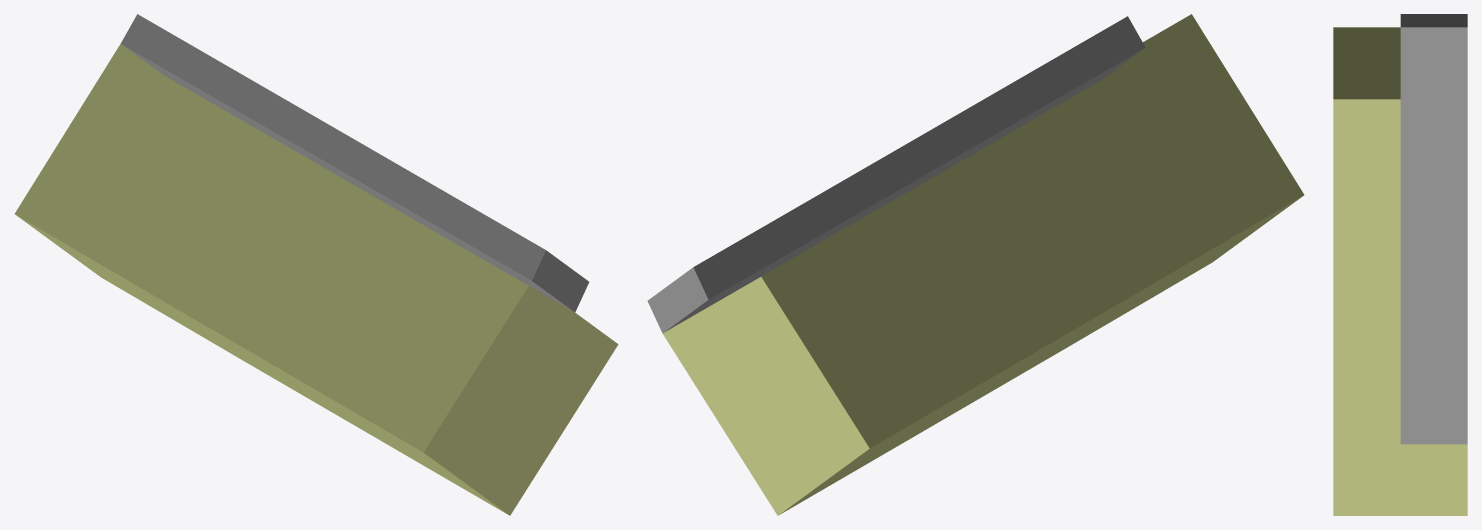
The picture shows the model from 3 angles, left to right: view 1: azimuth 30°, elevation 25°; view 2: azimuth 150°, elevation 25°; view 3: azimuth 270°, elevation 25°; orthographic projection. The views are drawn at different scales.
Parts seen in each view (by area): view 1: 0_2_3_2_2_3_0_2_1; view 2: 0_2_3_2_2_3_0_2_1; view 3: 0_2_3_2_2_3_0_2_1.
Boxes of the visible parts, box(x1,y1,x2,y2) form: 0_2_3_2_2_3_0_2_1: box(14, 14, 618, 515); 0_2_3_2_2_3_0_2_1: box(647, 14, 1304, 515); 0_2_3_2_2_3_0_2_1: box(1333, 14, 1467, 515).
Size of the model in its own units: 21.27 by 19.43 by 6.
